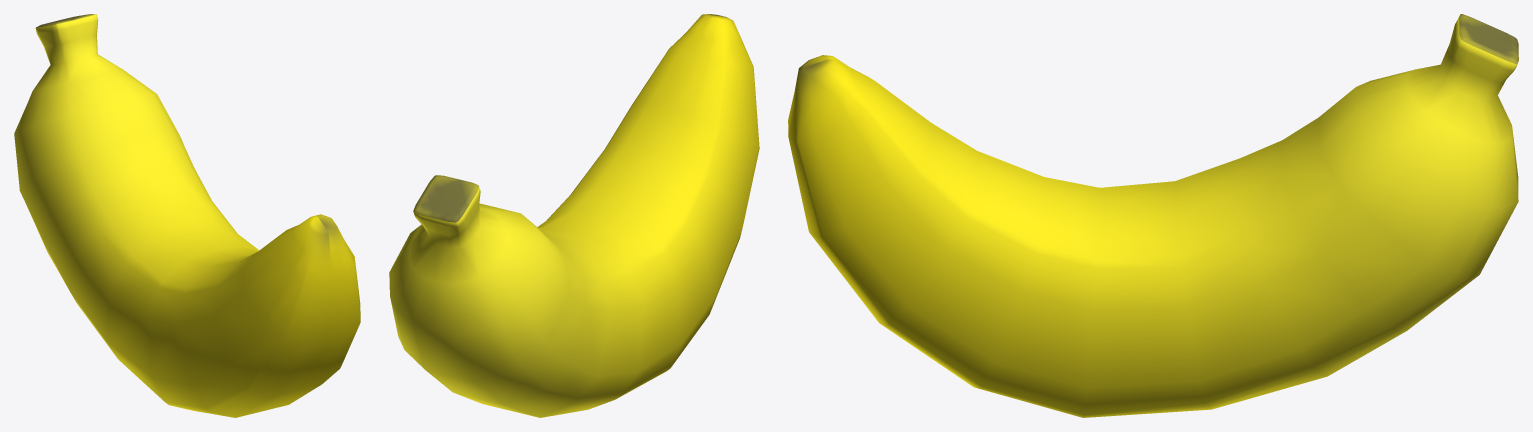
The model's file is Banana_.fbx.
The picture shows the model from 3 angles, left to right: view 1: azimuth 30°, elevation 25°; view 2: azimuth 150°, elevation 25°; view 3: azimuth 270°, elevation 25°; orthographic projection. The views are drawn at different scales.
Visible parts, largest first — view 1: Banana; view 2: Banana; view 3: Banana.
Part boxes in pixels (x1,y1,x2,y2): Banana: (14, 14, 360, 417); Banana: (389, 14, 759, 417); Banana: (788, 14, 1518, 417).
Bounding box in the file's own units: 68.85 × 131 × 233.
